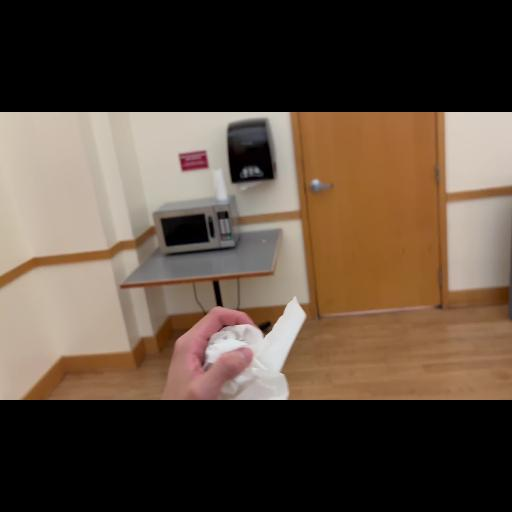napkin: (199, 292, 315, 400)
